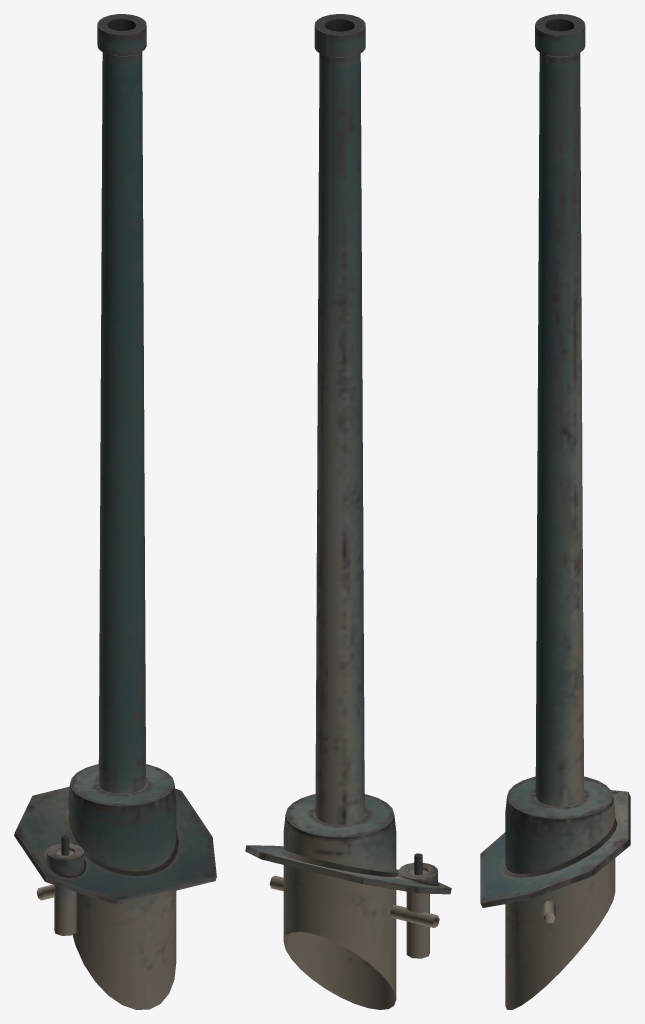
The model's file is Gun_02.glb.
The picture shows the model from 3 angles, left to right: view 1: azimuth 30°, elevation 25°; view 2: azimuth 150°, elevation 25°; view 3: azimuth 270°, elevation 25°; orthographic projection. The views are drawn at different scales.
Parts seen in each view (by area): view 1: set_0_group_0; view 2: set_0_group_0; view 3: set_0_group_0.
Boxes of the visible parts, x1,y1,x2,y2 form: set_0_group_0: (14, 14, 216, 1009); set_0_group_0: (245, 14, 451, 1009); set_0_group_0: (480, 14, 630, 1009).
Bounding box in the file's own units: 0.5045 × 2.8 × 0.3884.
1 material, 1 textured.
